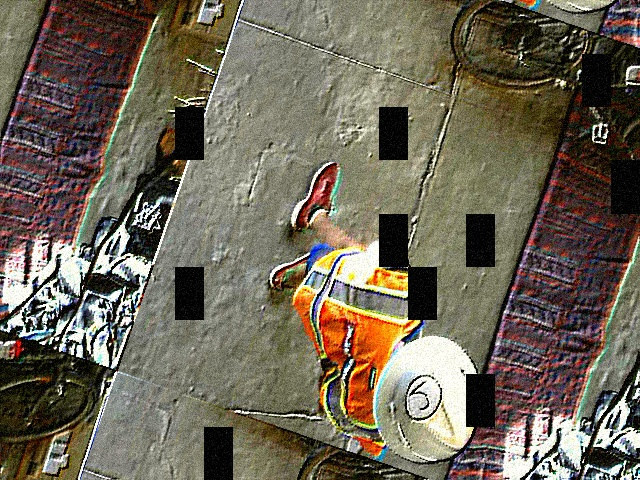two: (399, 369, 448, 425)
